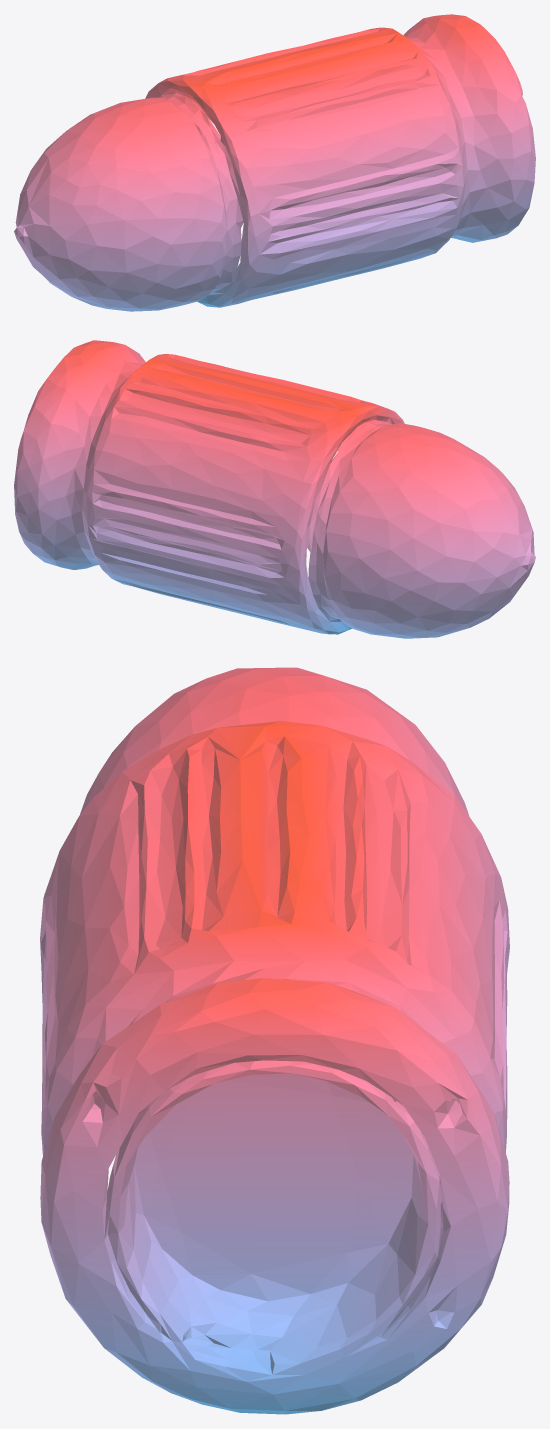
The model's file is 78_cyb_laser_gradient_fish_scales_2905_2026_10_03_c02304.glb.
3 views of the same model, one above another, from view 1: azimuth 30°, elevation 25°; view 2: azimuth 150°, elevation 25°; view 3: azimuth 270°, elevation 25° (orthographic). The views are drawn at different scales.
Visible parts, largest first — view 1: geometry_0; view 2: geometry_0; view 3: geometry_0.
Boxes of the visible parts, x1,y1,x2,y2 form: geometry_0: (14, 14, 535, 311); geometry_0: (14, 340, 535, 638); geometry_0: (40, 667, 509, 1414).
Size of the model in its own units: 0.9081 by 0.3968 by 0.3955.
